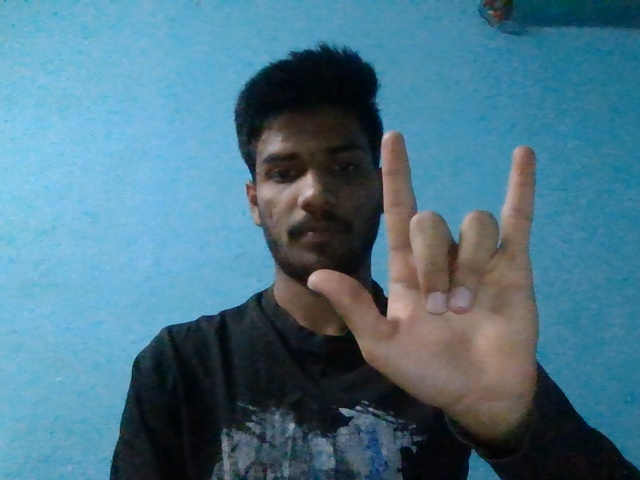I Love You: (307, 130, 541, 408)
